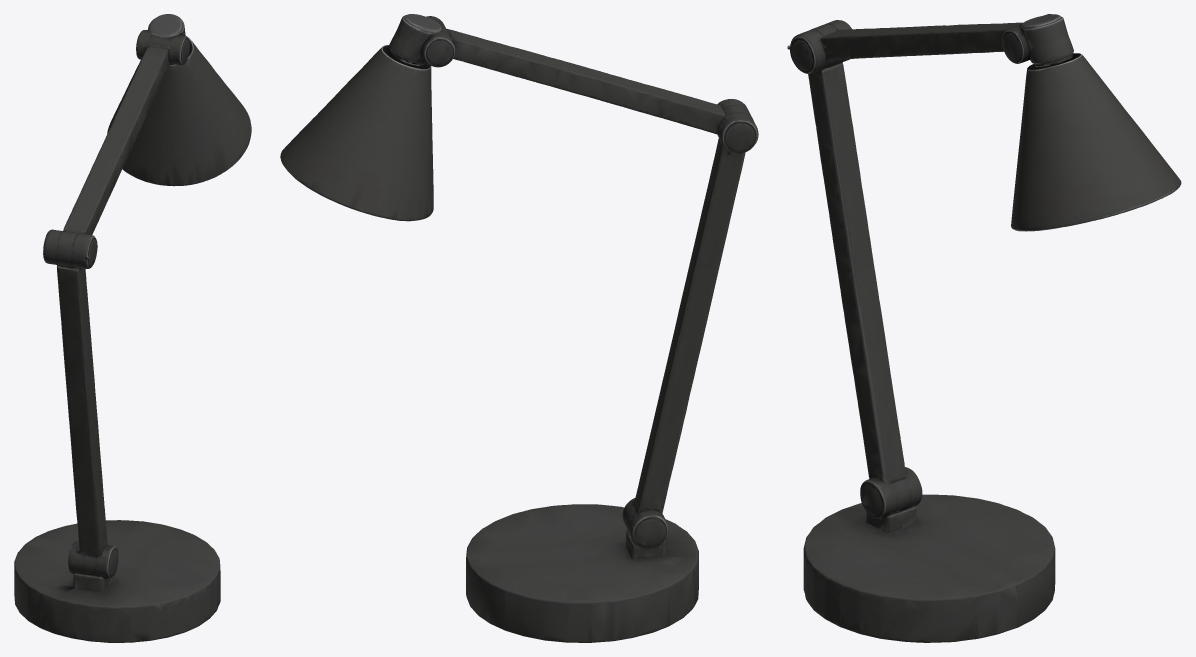
The model's file is lamp.glb.
3 views of the same model, side by side, from view 1: azimuth 30°, elevation 25°; view 2: azimuth 150°, elevation 25°; view 3: azimuth 270°, elevation 25° (orthographic). The views are drawn at different scales.
Visible parts, largest first — view 1: tripo_node_1daeb5e7-cc7b-4a03-8717-3a79313c7e87; view 2: tripo_node_1daeb5e7-cc7b-4a03-8717-3a79313c7e87; view 3: tripo_node_1daeb5e7-cc7b-4a03-8717-3a79313c7e87.
Boxes of the visible parts, bbox=[...] form: tripo_node_1daeb5e7-cc7b-4a03-8717-3a79313c7e87: bbox=[14, 14, 251, 642]; tripo_node_1daeb5e7-cc7b-4a03-8717-3a79313c7e87: bbox=[280, 14, 758, 642]; tripo_node_1daeb5e7-cc7b-4a03-8717-3a79313c7e87: bbox=[787, 14, 1181, 642].
Bounding box in the file's own units: 0.6123 × 0.9999 × 0.5642.
1 material, 1 textured.
